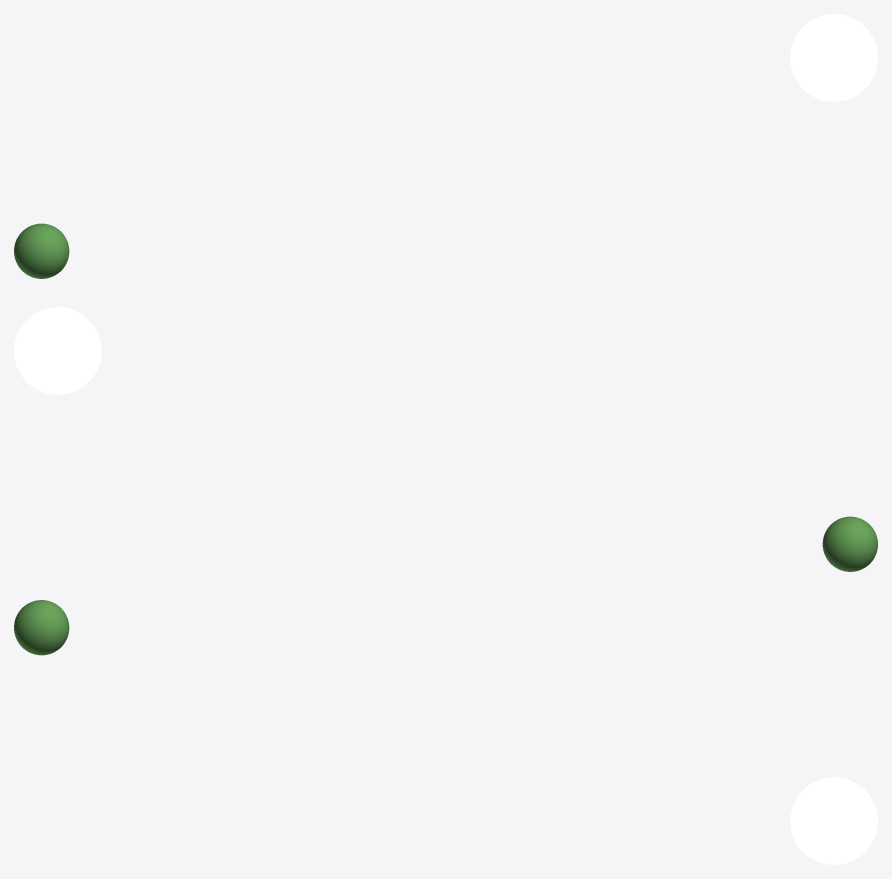
Rendered from Star System - Star-Planet.glb.
The picture shows the model from 3 angles, top to bottom: view 1: azimuth 30°, elevation 25°; view 2: azimuth 150°, elevation 25°; view 3: azimuth 330°, elevation 25°; orthographic projection.
Parts seen in each view (by area): view 1: Star-Sun, Planet-Home; view 2: Star-Sun, Planet-Home; view 3: Star-Sun, Planet-Home.
Part boxes in pixels (x1,y1,x2,y2): Star-Sun: (790, 14, 877, 101); Planet-Home: (14, 223, 69, 278); Star-Sun: (14, 307, 101, 394); Planet-Home: (822, 516, 877, 571); Star-Sun: (790, 777, 877, 864); Planet-Home: (14, 600, 69, 655).
Size of the model in its own units: 2.27e+08 by 2.02e+07 by 2.02e+07.
